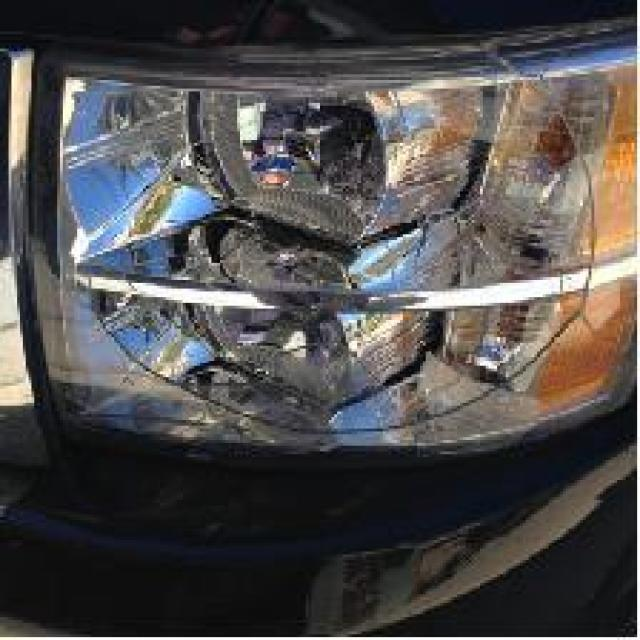damaged: (60, 77, 600, 440)
